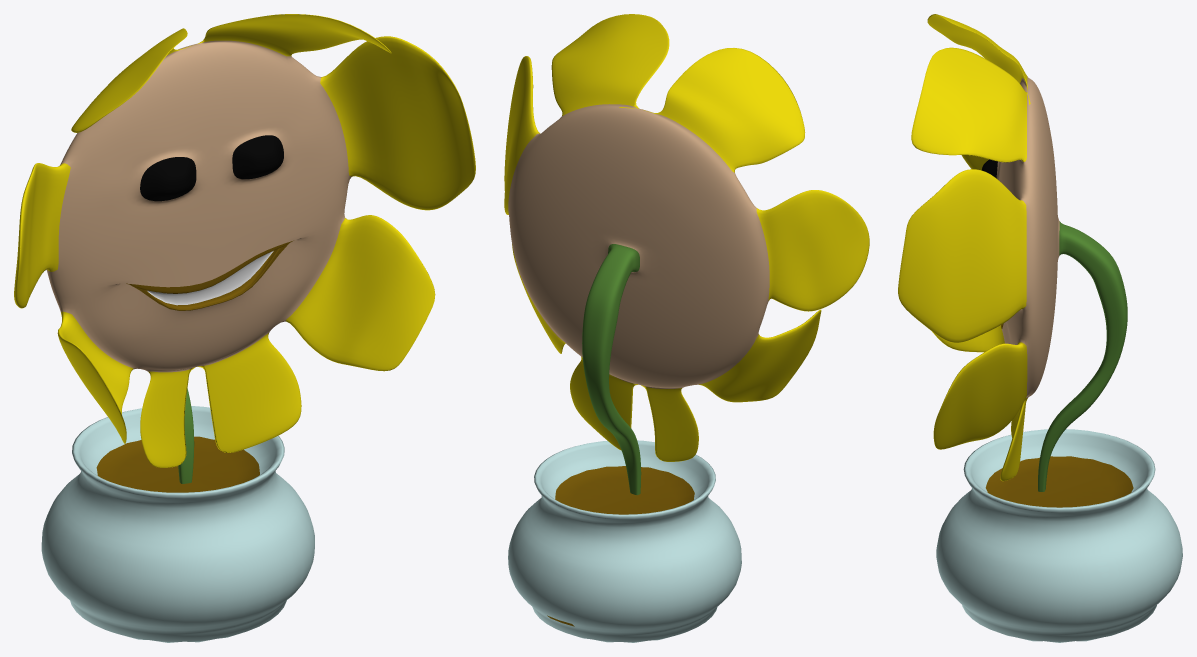
File: bunga.fbx
3 renders of one model, left to right at view 1: azimuth 30°, elevation 25°; view 2: azimuth 150°, elevation 25°; view 3: azimuth 270°, elevation 25°, orthographic. The views are drawn at different scales.
Visible parts, largest first — view 1: group5_pasted__pSphere3; view 2: group5_pasted__pSphere3; view 3: group5_pasted__pSphere3.
Part boxes in pixels (x1,y1,x2,y2): group5_pasted__pSphere3: [14, 14, 475, 642]; group5_pasted__pSphere3: [504, 14, 869, 642]; group5_pasted__pSphere3: [898, 14, 1182, 642].
Size of the model in its own units: 3.29 by 4.59 by 2.08.
